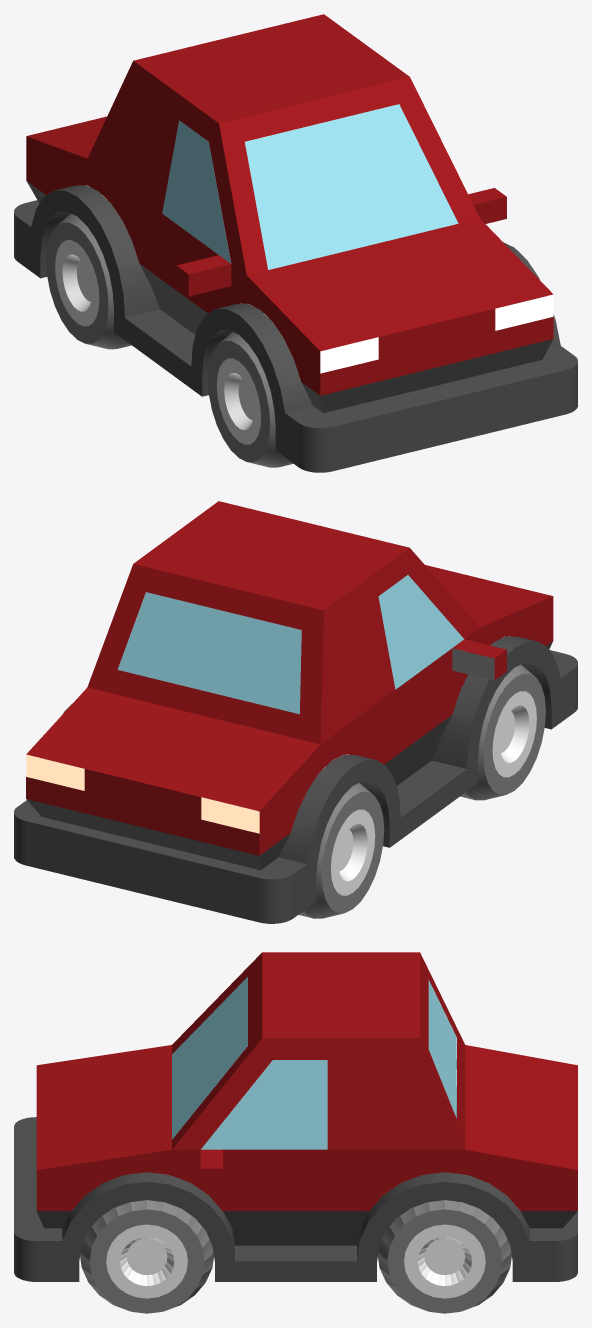
File: lowpoly-sedan.glb
3 renders of one model, top to bottom at view 1: azimuth 30°, elevation 25°; view 2: azimuth 150°, elevation 25°; view 3: azimuth 270°, elevation 25°, orthographic. The views are drawn at different scales.
Visible parts, largest first — view 1: body.007, wheel_frontRight.007, wheel_backRight.007; view 2: body.007, wheel_frontRight.007, wheel_backRight.007; view 3: body.007, wheel_frontLeft.007, wheel_backLeft.007.
Part boxes in pixels (x1,y1,x2,y2): body.007: (14, 14, 577, 472); wheel_frontRight.007: (207, 332, 322, 467); wheel_backRight.007: (46, 204, 131, 349); body.007: (14, 501, 577, 923); wheel_frontRight.007: (457, 649, 545, 800); wheel_backRight.007: (298, 770, 384, 918); body.007: (14, 952, 577, 1281); wheel_frontLeft.007: (80, 1172, 213, 1313); wheel_backLeft.007: (378, 1172, 511, 1313).
Bounding box in the file's own units: 1.5 × 1.3 × 2.5.
